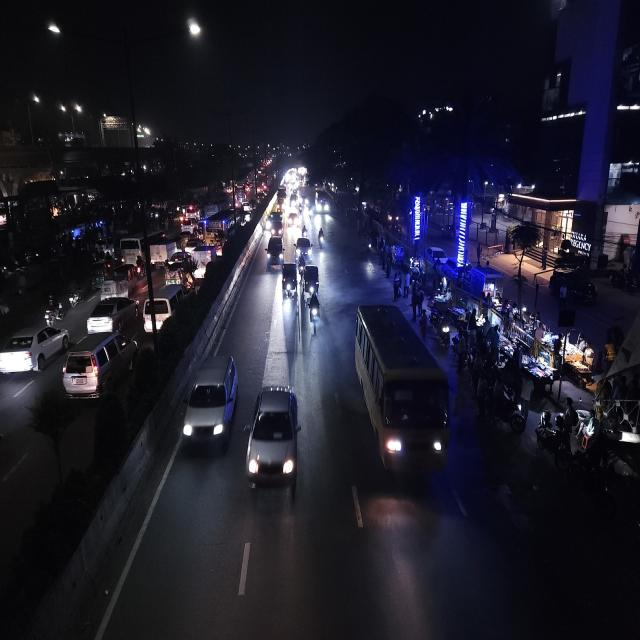bus: (351, 298, 453, 484), (120, 230, 178, 265), (206, 212, 236, 256), (314, 190, 330, 215)
car: (246, 381, 302, 498), (180, 350, 240, 458), (62, 330, 140, 405), (0, 323, 70, 379), (141, 286, 187, 334), (86, 294, 140, 332), (163, 254, 198, 286), (265, 233, 285, 271), (187, 240, 213, 268), (294, 236, 312, 263), (185, 236, 209, 256), (266, 209, 284, 234), (180, 218, 194, 235), (287, 210, 299, 228)
cng: (301, 262, 321, 300), (281, 260, 298, 302), (302, 261, 322, 289), (90, 263, 106, 289)
motorcycle: (41, 294, 66, 326), (306, 289, 322, 333), (134, 255, 146, 278), (316, 226, 327, 251), (300, 222, 310, 237)
pedestrian: (411, 288, 423, 320), (392, 270, 402, 299)
